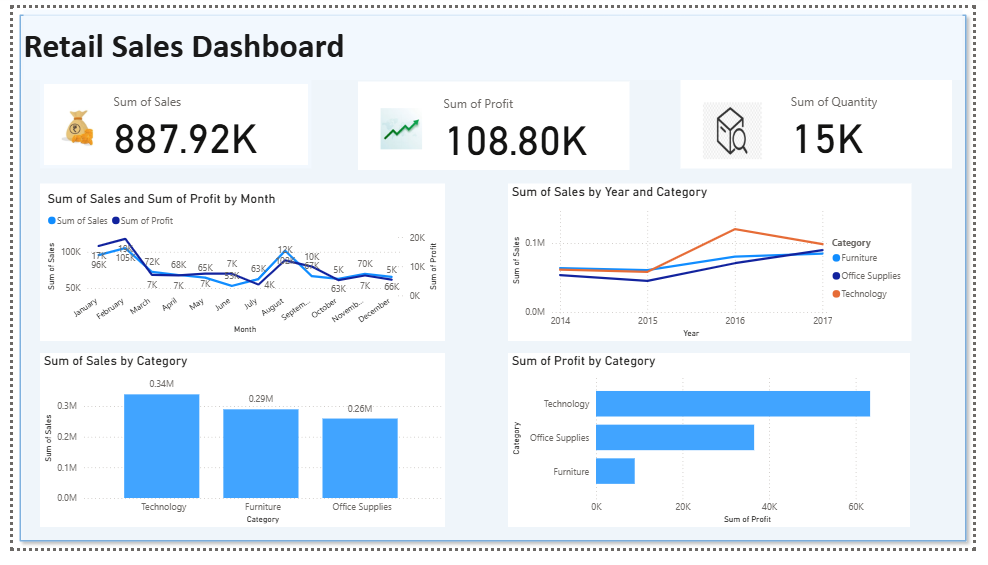

Layout of this report page (visuals, bound fields, positions):
{"tool":"powerbi","page":{"name":"Page 2","canvas":[1280,720],"ordinal":0},"visuals":[{"type":"shape","box":[0,0,1280,720],"z":0},{"type":"cardVisual","fields":{"Data":["Sum(Cleaned Data.Profit)"]},"box":[460,98,362,118],"z":1000},{"type":"lineChart","fields":{"Category":["Cleaned Data.Order Date.Variation.Date Hierarchy.Month"],"Y":["Sum(Cleaned Data.Sales)"],"Y2":["Sum(Cleaned Data.Profit)"]},"box":[36,234,540,210],"z":2000},{"type":"lineChart","fields":{"Category":["Cleaned Data.Order Date.Variation.Date Hierarchy.Year"],"Y":["Sum(Cleaned Data.Sales)"],"Series":["Cleaned Data.Category"]},"box":[660,234,538,210],"z":3000},{"type":"clusteredColumnChart","fields":{"Category":["Cleaned Data.Category"],"Y":["Sum(Cleaned Data.Sales)"]},"box":[36,460,540,232],"z":4000},{"type":"barChart","fields":{"Category":["Cleaned Data.Category"],"Y":["Sum(Cleaned Data.Profit)"]},"box":[660,460,536,232],"z":5000},{"type":"shape","box":[14,2,1252,94],"z":6000},{"type":"cardVisual","fields":{"Data":["Sum(Cleaned Data.Quantity)"]},"box":[890,96,362,118],"z":7000},{"type":"cardVisual","fields":{"Data":["Sum(Cleaned Data.Sales)"]},"box":[36,96,362,118],"z":8000}]}

Visuals, with their boxes in screenshot pixels (x1, y1, x2, y2), scaled from the page's 1280x720 canvas onto the 988x565 screenshot:
shape: 0:0:987:564
cardVisual - Sum(Cleaned Data.Profit): 355:77:634:170
lineChart - Cleaned Data.Order Date.Variation.Date Hierarchy.Month x Sum(Cleaned Data.Sales): 28:184:445:348
lineChart - Cleaned Data.Order Date.Variation.Date Hierarchy.Year x Sum(Cleaned Data.Sales): 509:184:925:348
clusteredColumnChart - Cleaned Data.Category x Sum(Cleaned Data.Sales): 28:361:445:543
barChart - Cleaned Data.Category x Sum(Cleaned Data.Profit): 509:361:923:543
shape: 11:2:977:75
cardVisual - Sum(Cleaned Data.Quantity): 687:75:966:168
cardVisual - Sum(Cleaned Data.Sales): 28:75:307:168
